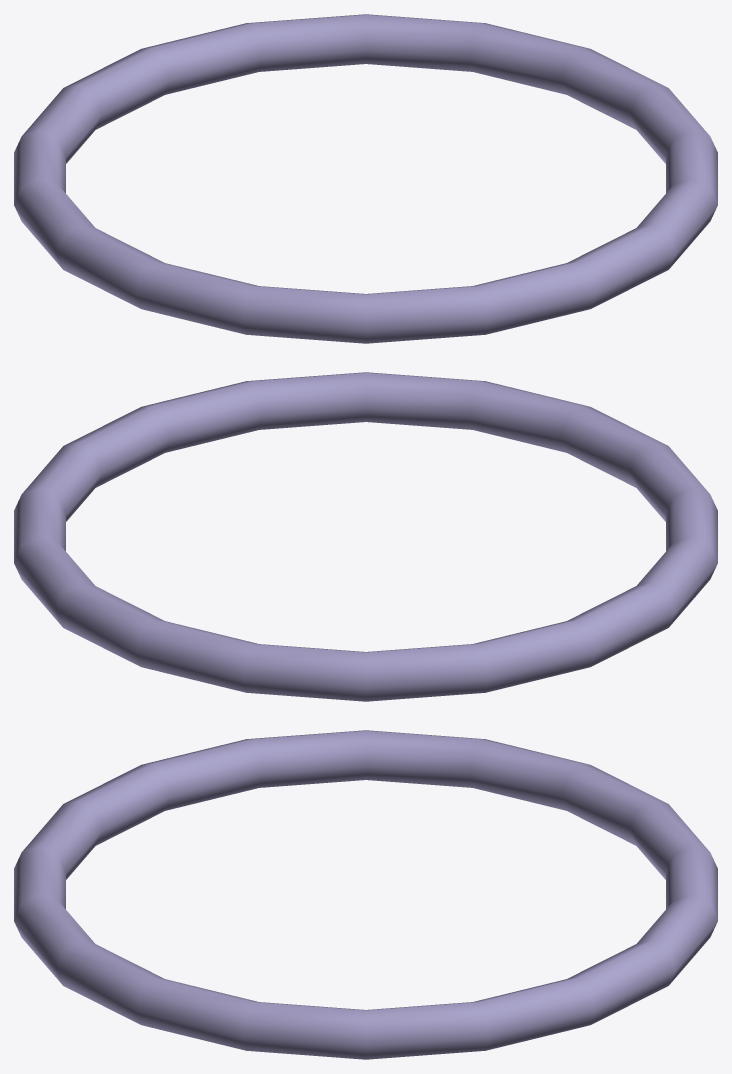
File: disposal_ring.fbx
3 renders of one model, top to bottom at view 1: azimuth 30°, elevation 25°; view 2: azimuth 150°, elevation 25°; view 3: azimuth 270°, elevation 25°, orthographic.
Parts seen in each view (by area): view 1: 02-ring; view 2: 02-ring; view 3: 02-ring.
Boxes of the visible parts, x1,y1,x2,y2 form: 02-ring: [14, 14, 717, 343]; 02-ring: [14, 372, 717, 701]; 02-ring: [14, 730, 717, 1059].
Size of the model in its own units: 108000 by 8000 by 106359.
